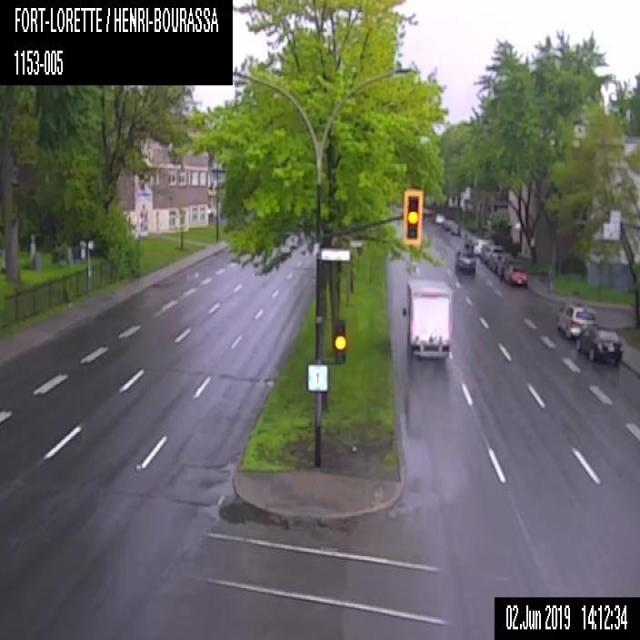vehicle: (404, 279, 452, 362), (576, 323, 624, 363), (556, 300, 598, 339), (503, 264, 528, 288), (455, 248, 475, 276), (492, 253, 515, 277), (485, 244, 504, 267), (471, 238, 491, 255), (434, 211, 446, 224), (449, 222, 460, 235), (443, 219, 455, 230)
